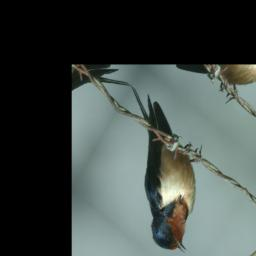Swallow: (78, 82, 235, 256)
